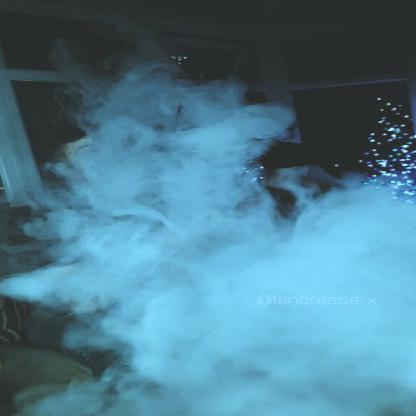smoke: (86, 214, 415, 416), (82, 64, 294, 216)
